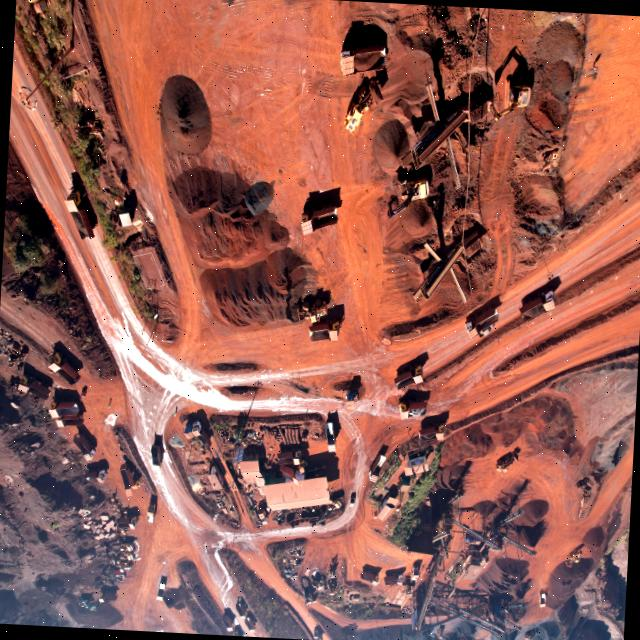Dumper truck: (487, 76, 532, 126), (387, 171, 431, 221), (65, 188, 96, 246), (340, 46, 388, 80), (301, 200, 339, 240), (48, 348, 82, 386), (309, 318, 341, 348), (520, 296, 556, 322), (394, 364, 423, 393), (20, 374, 49, 401), (279, 459, 306, 486), (192, 419, 214, 450), (49, 400, 79, 420), (398, 399, 426, 419), (369, 452, 387, 483), (74, 435, 95, 460), (278, 446, 302, 467), (418, 423, 444, 442), (324, 420, 338, 454), (56, 414, 85, 428), (117, 514, 139, 530), (86, 468, 107, 484), (99, 590, 118, 606), (465, 317, 479, 338), (384, 572, 403, 586), (146, 502, 157, 526), (221, 613, 234, 632), (156, 582, 167, 602), (362, 572, 379, 584), (236, 603, 248, 620), (245, 617, 256, 634), (410, 565, 419, 583), (538, 592, 546, 608), (313, 629, 323, 640), (233, 628, 243, 636)
Excavator: (318, 501, 343, 524), (104, 539, 136, 553), (299, 578, 314, 606), (107, 550, 134, 561), (78, 596, 98, 610), (310, 576, 324, 592), (328, 560, 338, 578)
car: (349, 494, 356, 508), (482, 328, 492, 337)
person: (174, 408, 178, 418), (503, 552, 505, 558), (530, 600, 532, 606)
